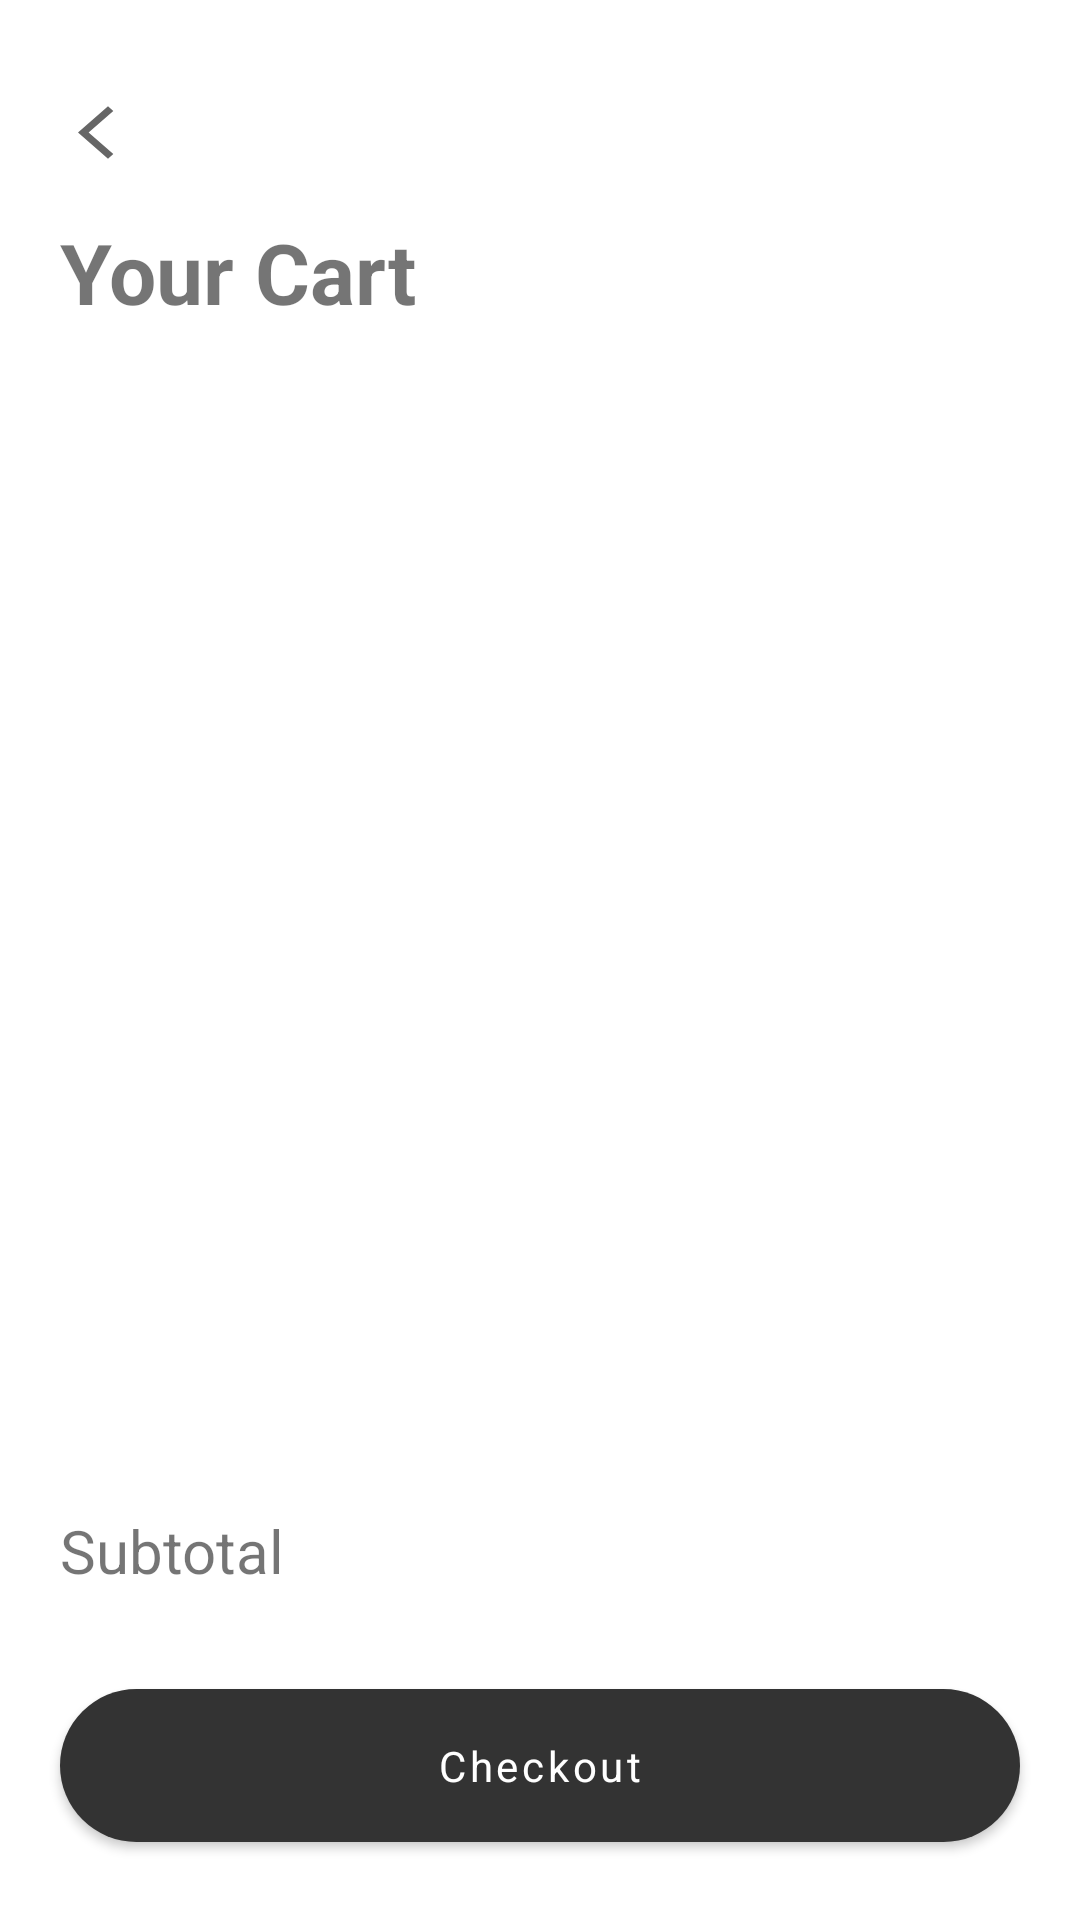

Screen size 1080×1920. Icon name, then its box in pixels as BBox(x1, y1, x2, y2):
arrow back: BBox(78, 106, 113, 159)
